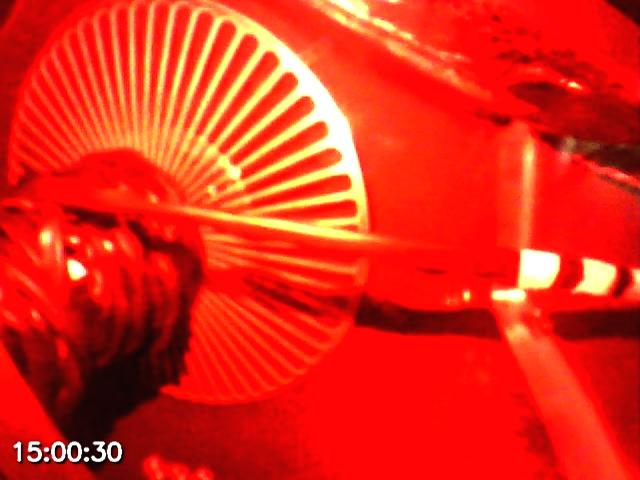white-dots: (517, 247, 640, 305)
